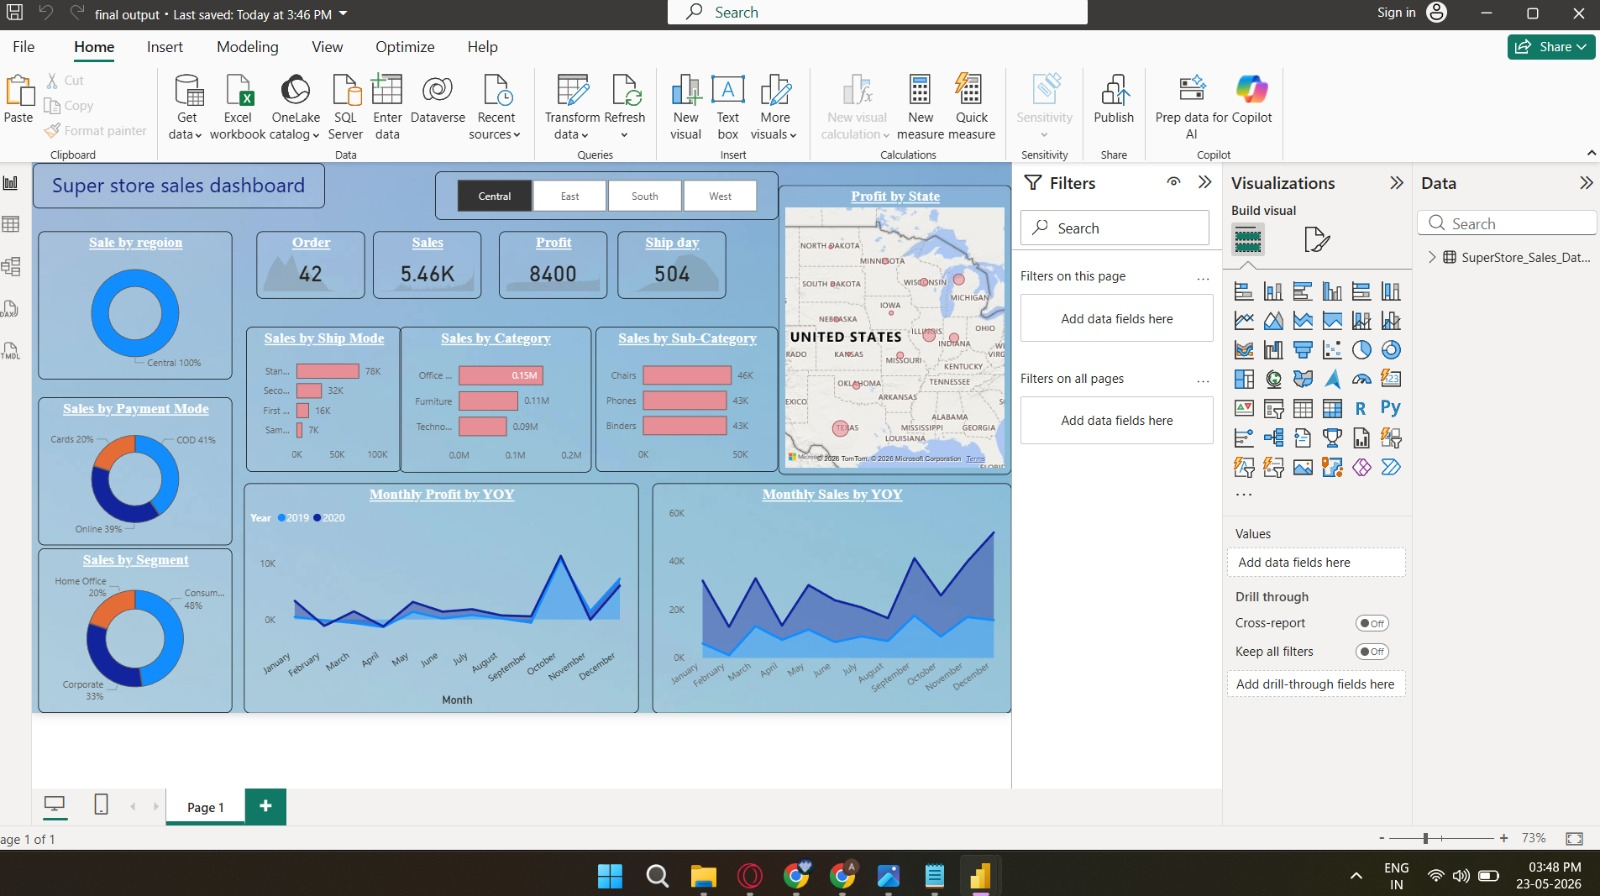

What the dashboard file says about the page in this screenshot:
{"tool":"powerbi","page":{"name":"Page 1","canvas":[1280,720],"ordinal":0},"visuals":[{"type":"clusteredBarChart","title":" Sales by Category","fields":{"Category":["SuperStore_Sales_Dataset.Category"],"Y":["Sum(SuperStore_Sales_Dataset.Sales)"]},"box":[903.8,490,248.8,230],"z":0},{"type":"clusteredBarChart","title":"Sales by Sub-Category","fields":{"Category":["SuperStore_Sales_Dataset.Sub-Category"],"Y":["Sum(SuperStore_Sales_Dataset.Sales)"]},"box":[630,490,273.8,230],"z":1000},{"type":"clusteredBarChart","title":"Sales by Ship Mode","fields":{"Category":["SuperStore_Sales_Dataset.Ship Mode"],"Y":["Sum(SuperStore_Sales_Dataset.Sales)"]},"box":[372.5,490,257.5,230],"z":2000},{"type":"stackedAreaChart","title":"Monthly Sales by YOY","fields":{"Y":["Sum(SuperStore_Sales_Dataset.Sales)"],"Category":["SuperStore_Sales_Dataset.Order Date.Variation.Date Hierarchy.Month","SuperStore_Sales_Dataset.Order Date.Variation.Date Hierarchy.Day"],"Series":["SuperStore_Sales_Dataset.Order Date.Variation.Date Hierarchy.Year"]},"box":[663.8,117.5,475,313.8],"z":3000},{"type":"stackedAreaChart","title":"Monthly Profit by YOY","fields":{"Category":["SuperStore_Sales_Dataset.Order Date.Variation.Date Hierarchy.Month","SuperStore_Sales_Dataset.Order Date.Variation.Date Hierarchy.Day"],"Series":["SuperStore_Sales_Dataset.Order Date.Variation.Date Hierarchy.Year"],"Y":["Sum(SuperStore_Sales_Dataset.Profit)"]},"box":[295,117.5,345,333.8],"z":4000},{"type":"map","fields":{"Category":["SuperStore_Sales_Dataset.State"]},"box":[0,117.5,698.8,335],"z":4001}]}

Visuals, with their boxes on the page's 1280x720 design canvas (x1, y1, x2, y2). These are canvas units, not pixel positions in the 1600x896 screenshot, which may show the page scaled, cropped or inside an application window:
" Sales by Category" clusteredBarChart: Rect(904, 490, 1153, 720)
"Sales by Sub-Category" clusteredBarChart: Rect(630, 490, 904, 720)
"Sales by Ship Mode" clusteredBarChart: Rect(372, 490, 630, 720)
"Monthly Sales by YOY" stackedAreaChart: Rect(664, 118, 1139, 431)
"Monthly Profit by YOY" stackedAreaChart: Rect(295, 118, 640, 451)
map - SuperStore_Sales_Dataset.State: Rect(0, 118, 699, 452)
